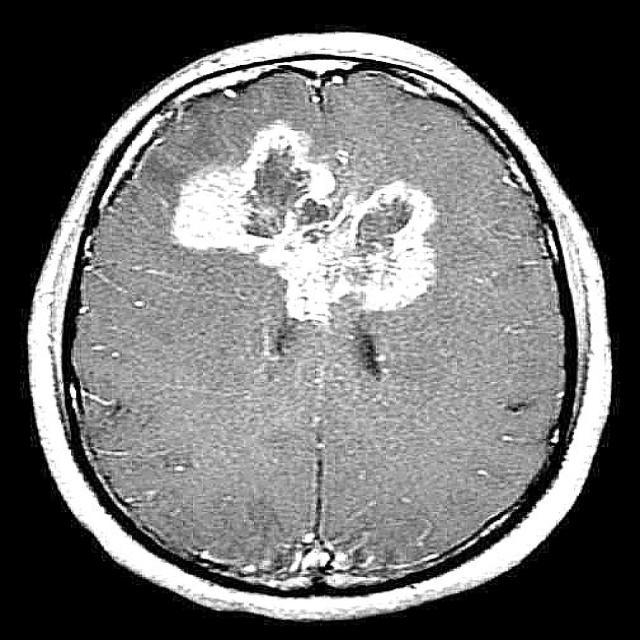brain tumor: (170, 123, 439, 323)
